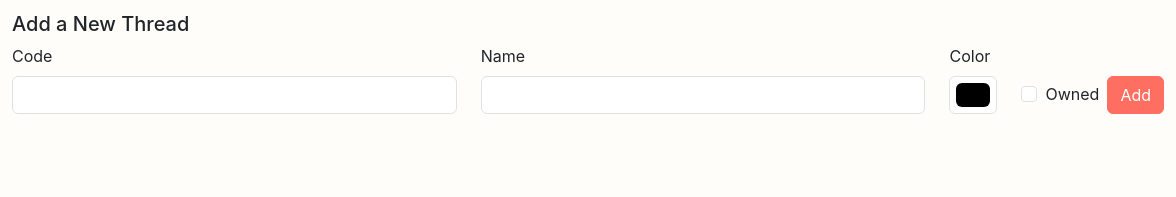
Test case: ThreadForm component › shows an error alert if submission fails
In the field labelled "Code": (234, 95) [12,76,457,114], type "400"
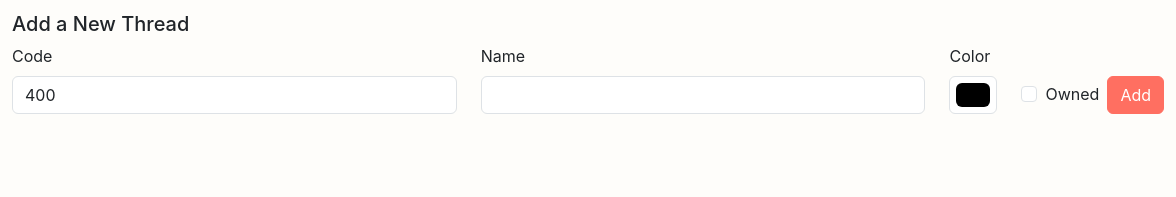
In the field labelled "Name": (703, 95) [481,76,925,114], type "FailThread"
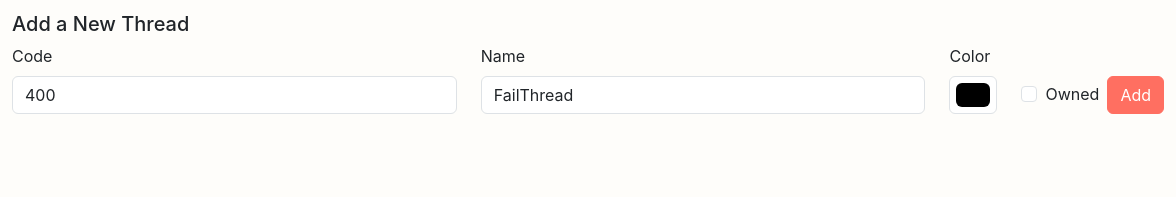
Click the button "Add": (1136, 95) [1107,76,1164,114]
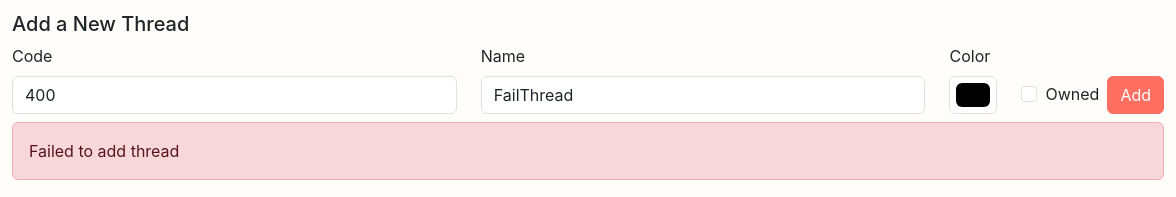
Now the text "Failed to add thread" is shown, box [12,122,1164,180]
